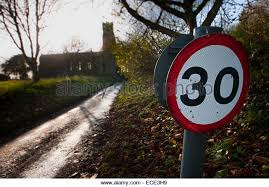Speed_limit_30km: (167, 34, 249, 131)
